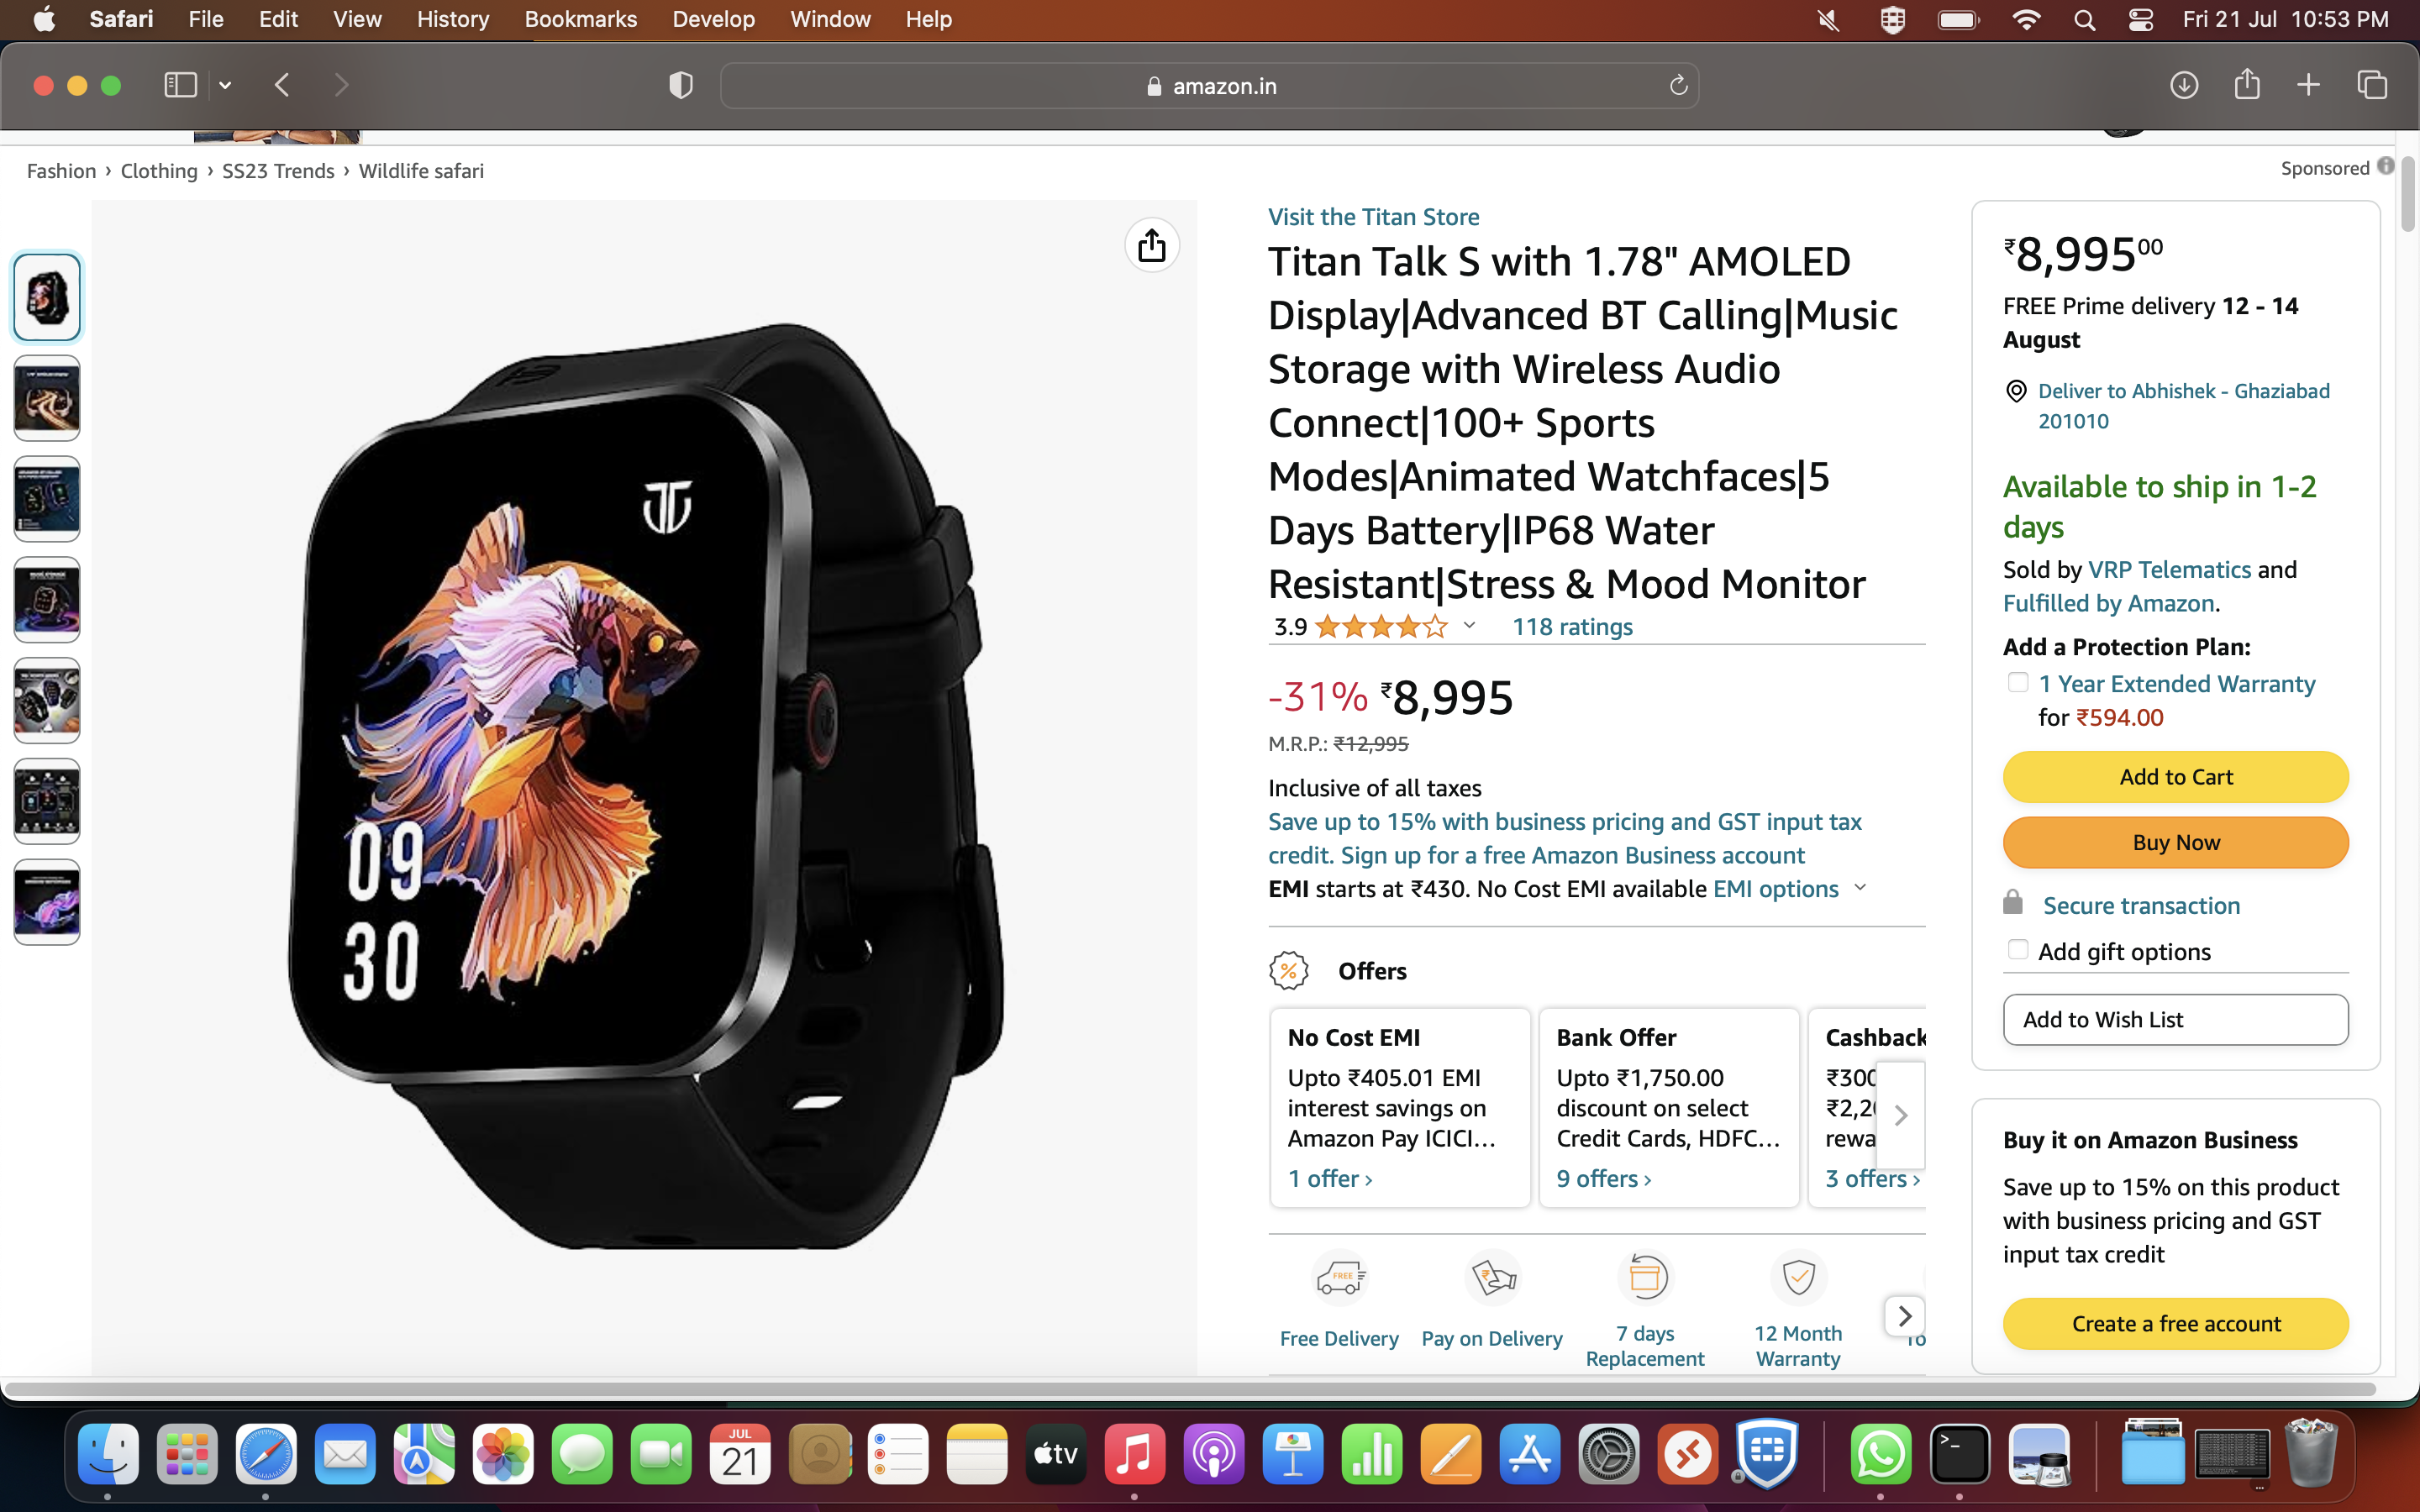Image: (294, 319, 984, 1254), (3, 350, 82, 456), (7, 254, 96, 347), (10, 556, 82, 648), (14, 854, 85, 935), (21, 662, 85, 740), (14, 772, 78, 836), (24, 467, 82, 531)
Paragraph: (1265, 254, 1894, 610), (1246, 775, 1869, 892), (1986, 1118, 2352, 1282), (1993, 460, 2333, 538), (1268, 1056, 1502, 1162), (1547, 1066, 1784, 1155), (2037, 375, 2340, 442), (2007, 556, 2305, 617), (1990, 298, 2305, 354), (28, 159, 517, 192), (2040, 892, 2242, 970), (2037, 669, 2312, 723), (2004, 209, 2181, 291), (1249, 188, 1512, 240), (1349, 672, 1544, 726), (1997, 1002, 2209, 1045), (1254, 726, 1441, 775), (2058, 1306, 2295, 1345), (2000, 624, 2263, 655), (1591, 1317, 1718, 1378), (1551, 1009, 1690, 1063), (2103, 754, 2253, 803), (1519, 1162, 1664, 1211), (1756, 1313, 1852, 1378), (1314, 942, 1416, 1002), (1413, 1317, 1558, 1357), (1268, 1320, 1406, 1360), (1272, 1026, 1437, 1056), (2096, 836, 2256, 861), (1275, 1162, 1375, 1197)
